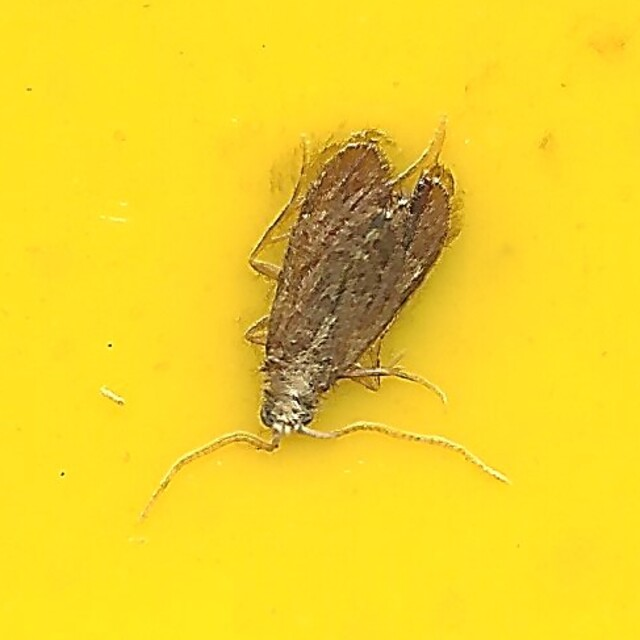Trichoptera: (131, 131, 509, 509)
